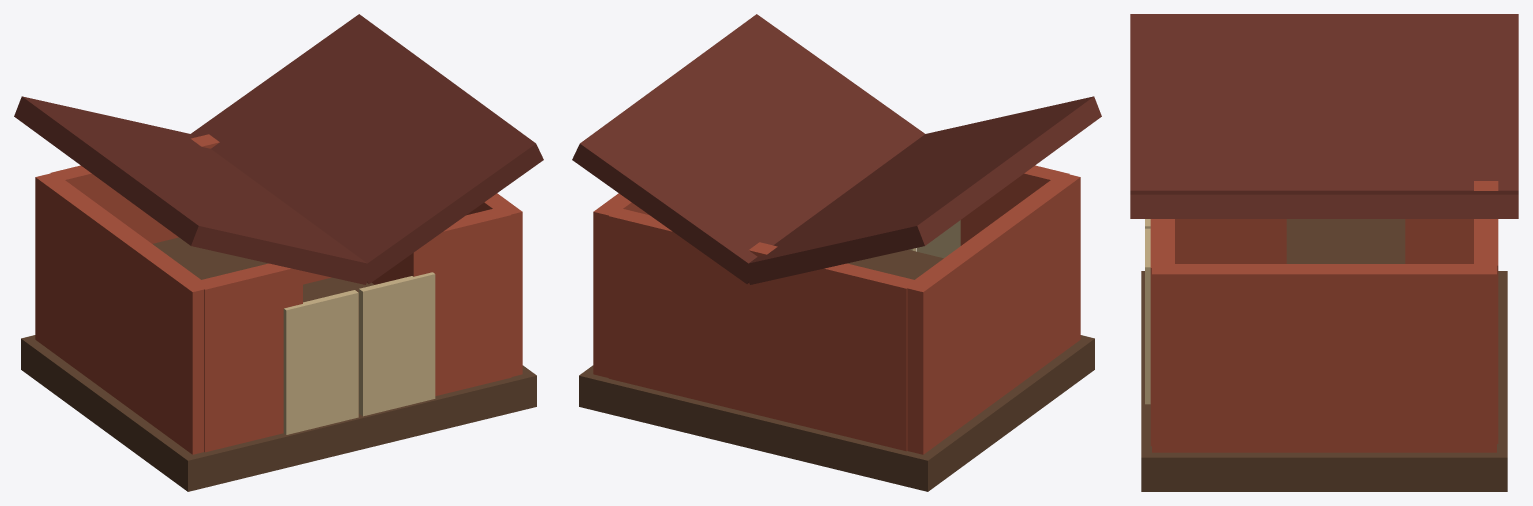
The model's file is orchard_barn.glb.
3 views of the same model, side by side, from view 1: azimuth 30°, elevation 25°; view 2: azimuth 150°, elevation 25°; view 3: azimuth 270°, elevation 25° (orthographic). The views are drawn at different scales.
Visible parts, largest first — view 1: roof_right, left_wall, roof_left, foundation, front_left, front_right, door_right, door_left, back_wall, right_wall, hay_loft; view 2: back_wall, roof_right, left_wall, roof_left, foundation, right_wall, front_left, hay_loft, door_left; view 3: roof_left, right_wall, foundation, roof_right, left_wall, hay_loft, back_wall, front_right, door_right.
Part boxes in pixels (x1,y1,x2,y2): roof_right: (191,14,543,283); left_wall: (35,172,211,454); roof_left: (14,96,373,284); foundation: (21,277,536,491); front_left: (194,263,302,452); front_right: (402,209,511,395); door_right: (359,272,435,416); door_left: (283,290,358,434); back_wall: (51,134,331,284); right_wall: (372,193,522,376); hay_loft: (153,237,268,279); back_wall: (608,209,913,451); roof_right: (572,14,924,283); left_wall: (904,172,1080,454); roof_left: (742,96,1101,284); foundation: (579,335,1094,491); right_wall: (593,193,649,377); front_left: (960,165,1069,245); hay_loft: (847,249,943,279); door_left: (917,220,960,258); roof_left: (1130,14,1518,190); right_wall: (1152,264,1496,452); foundation: (1141,271,1507,491); roof_right: (1130,190,1518,218); left_wall: (1175,219,1473,263); hay_loft: (1286,219,1405,263); back_wall: (1474,181,1498,443); front_right: (1150,219,1174,446); door_right: (1145,228,1150,404).
Size of the model in its own units: 8.29 by 6.02 by 7.2.
